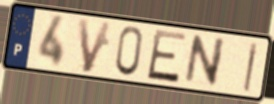0: (114, 25, 145, 78)
4: (35, 12, 67, 71)
E: (144, 28, 189, 86)
I: (241, 40, 260, 94)
N: (182, 34, 228, 89)
V: (76, 17, 115, 75)
